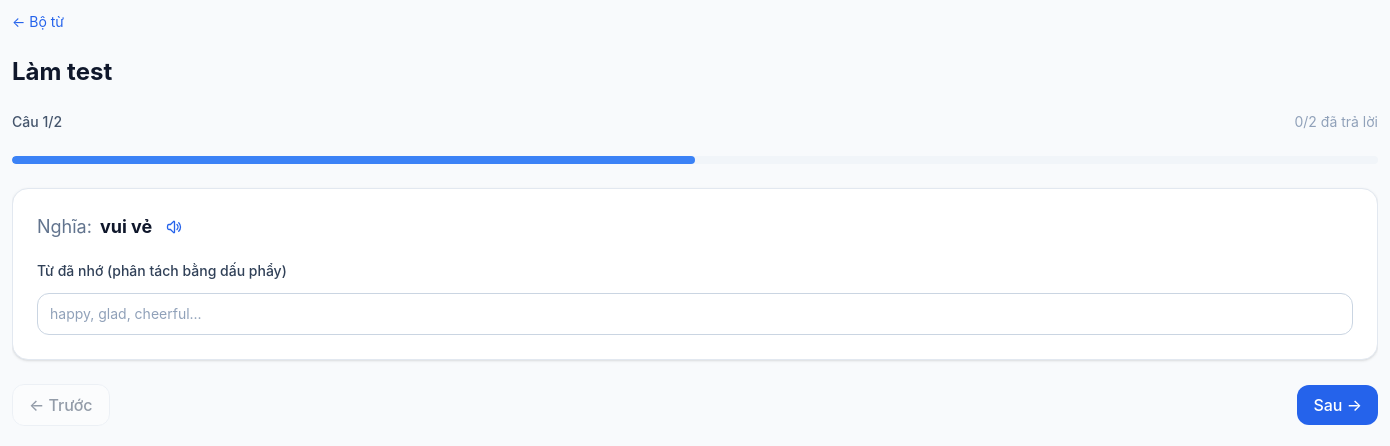
Test case: QuizPage › nộp bài → gọi submitTest và hiện kết quả
Expected: the text "vui vẻ" is shown, [100,213,152,241]
Type "happy, glad" into the field labelled "Từ đã nhớ" at [695, 314], box [37,293,1353,335]
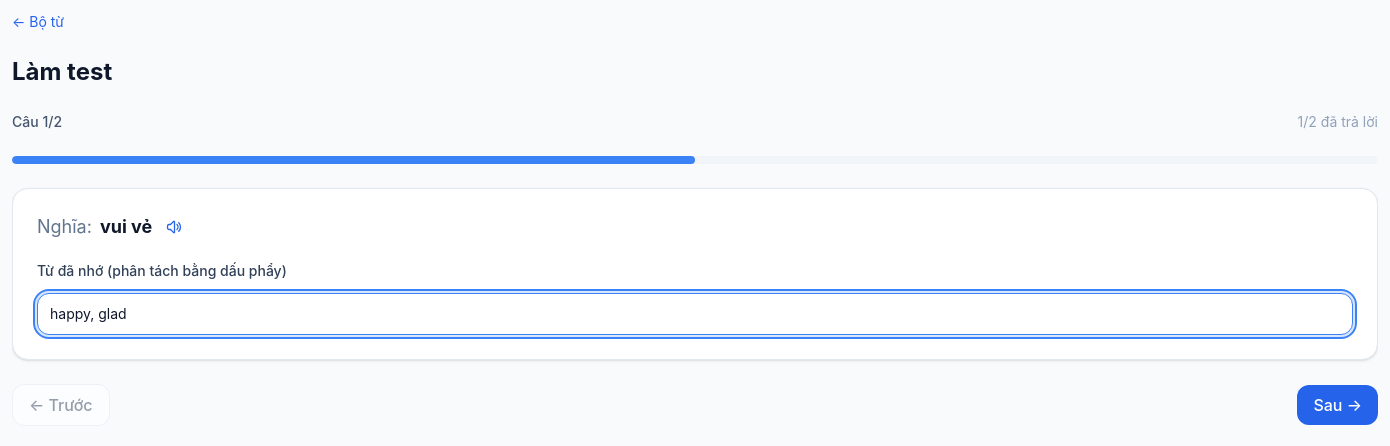
Click the button "Sau →" at [1338, 405], box [1297,385,1378,425]
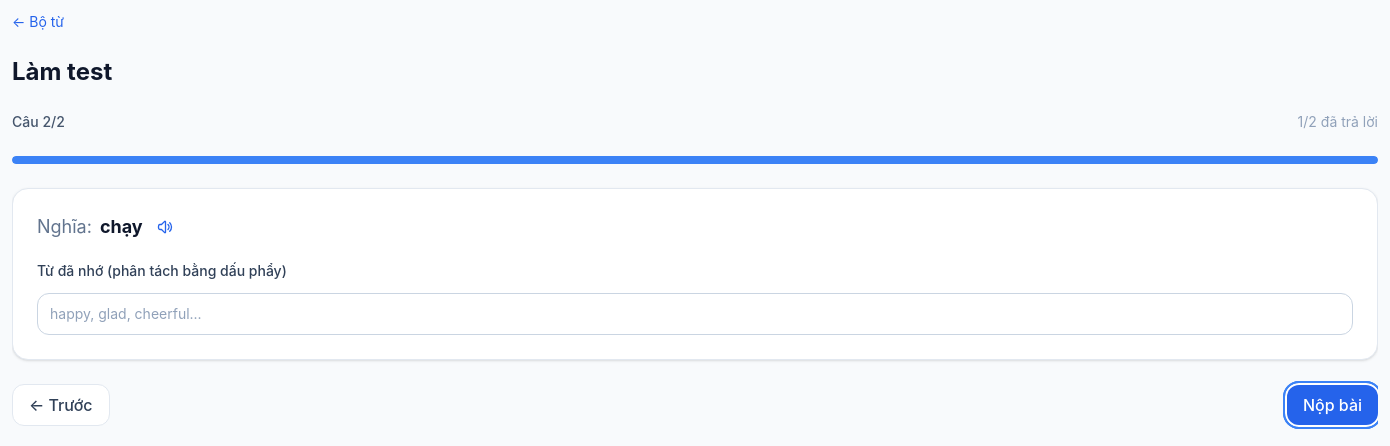
Click the button "Nộp bài" at [1332, 405], box [1287,385,1378,425]
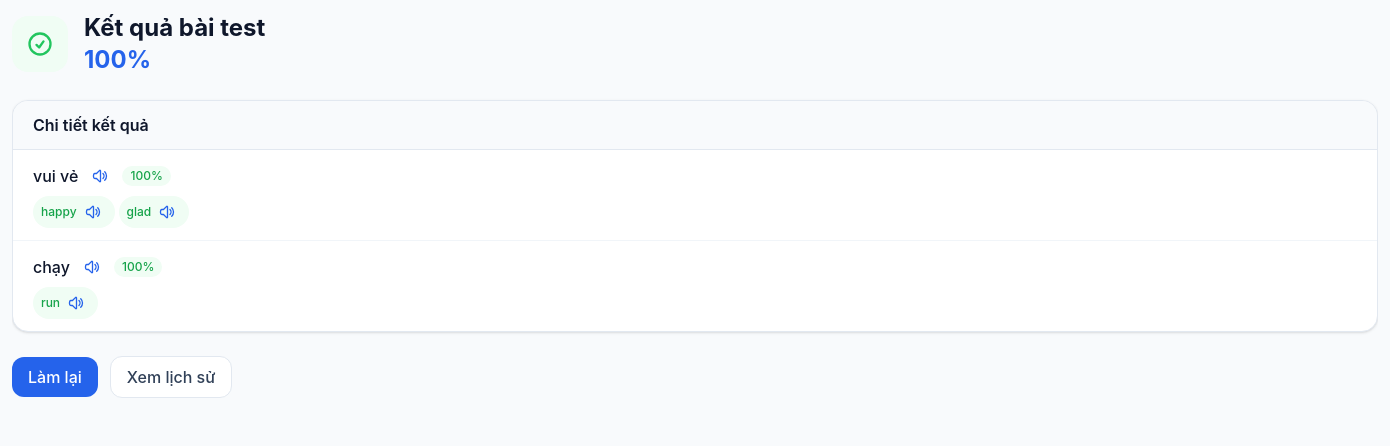
Expected: the heading "Kết quả bài test" is shown, [84,12,265,44]
